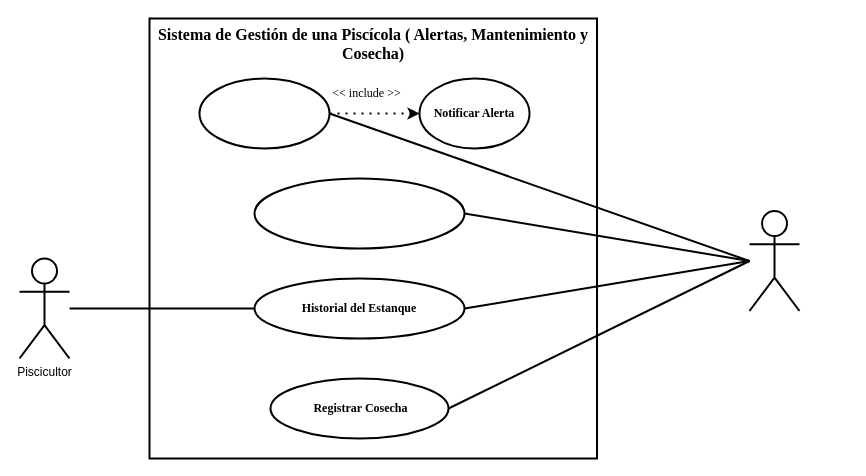
This 866x476 diagram has some shape labels left out. Here are the shapes that lost their labels. From the top down, the box of each, then its label:
(198, 77, 330, 149): Registrar Alerta por Boqueo
(253, 177, 465, 249): Mantenimiento de Estanque
(748, 210, 800, 312): Encargado de la Estación
